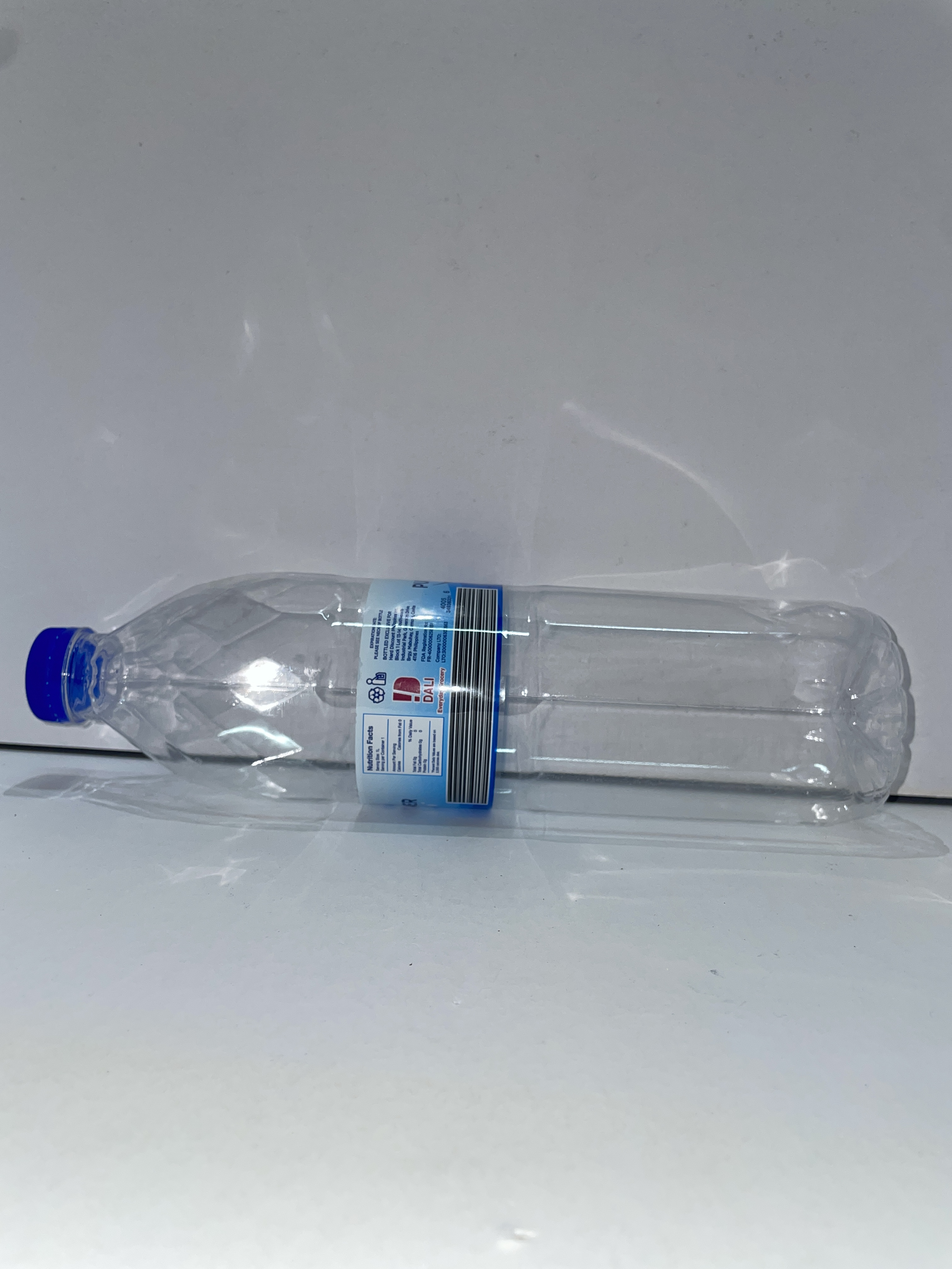aquaspring 1000ml: (26, 573, 911, 823)
